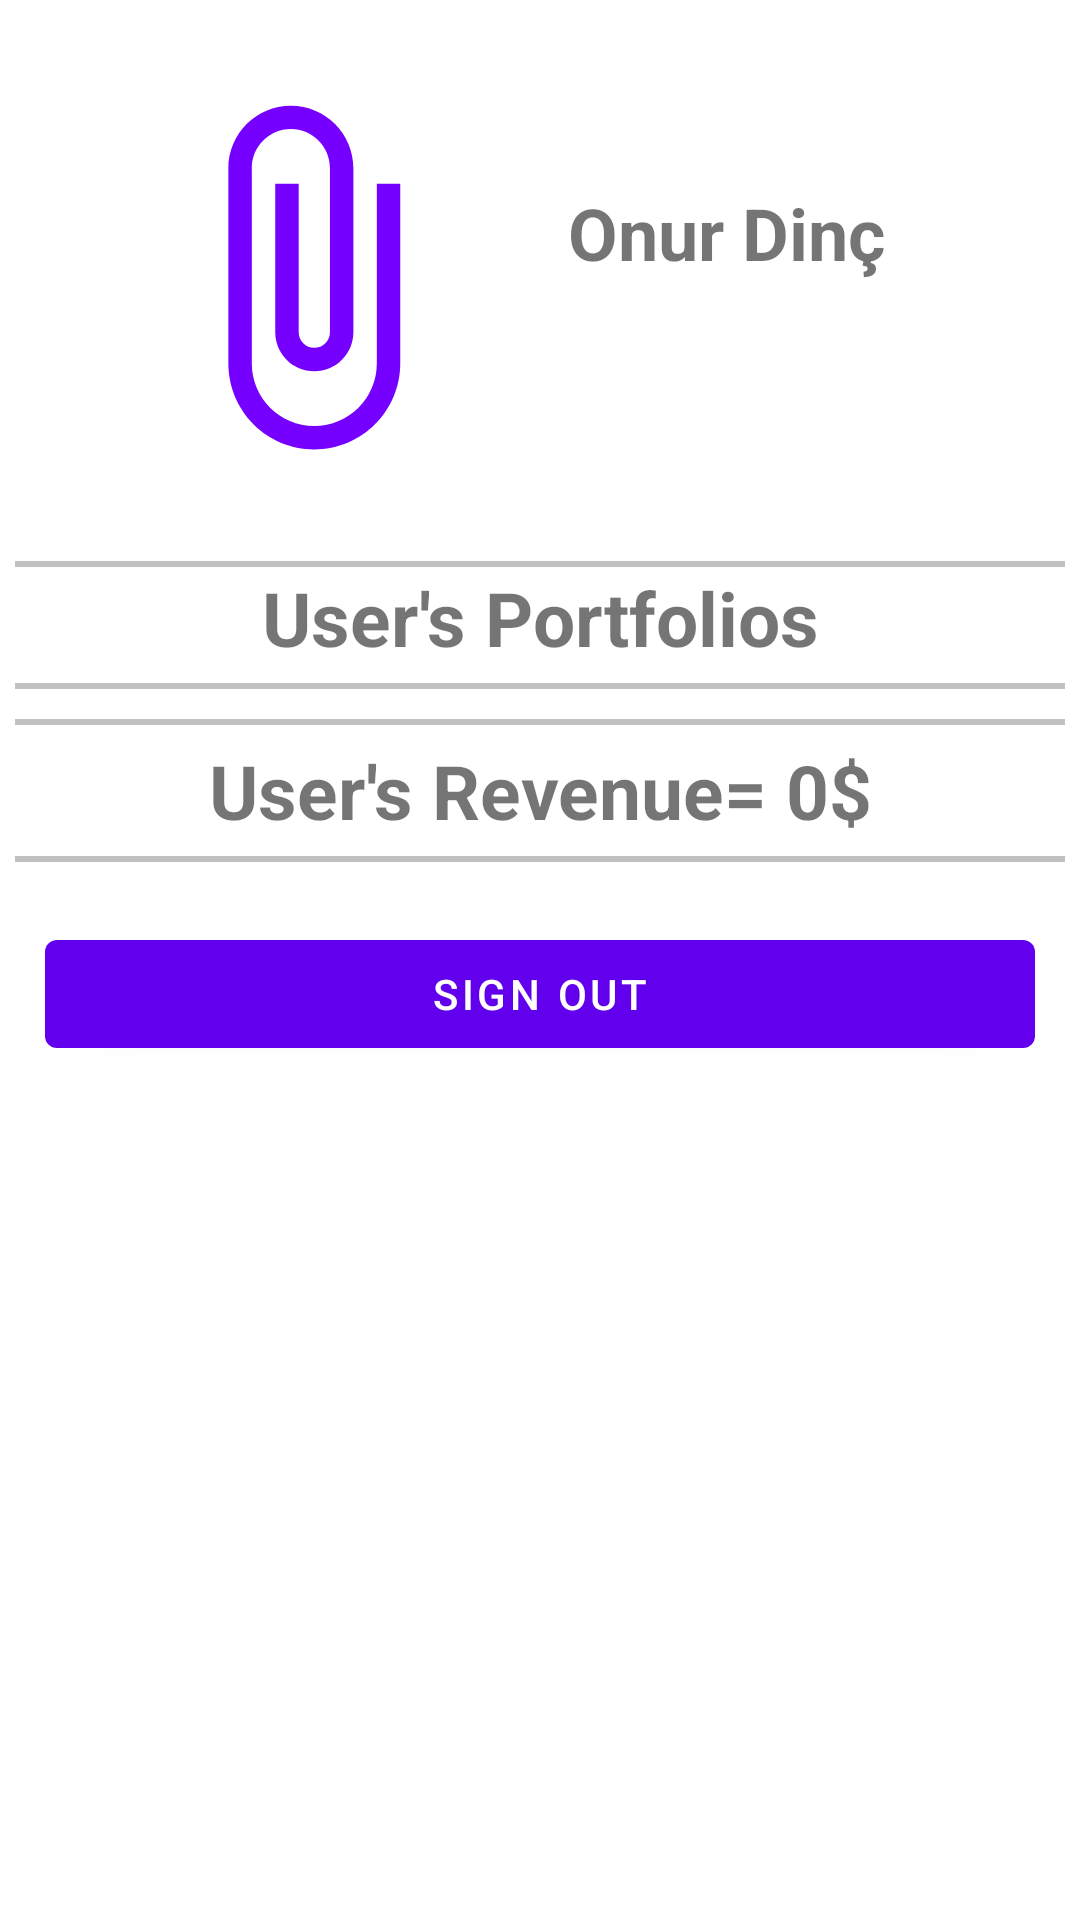

Screen size 1080px×1920px. Icon name, then its box in pixels as [x1,y1,x2,y2]:
attach file: [228,105,401,450]
